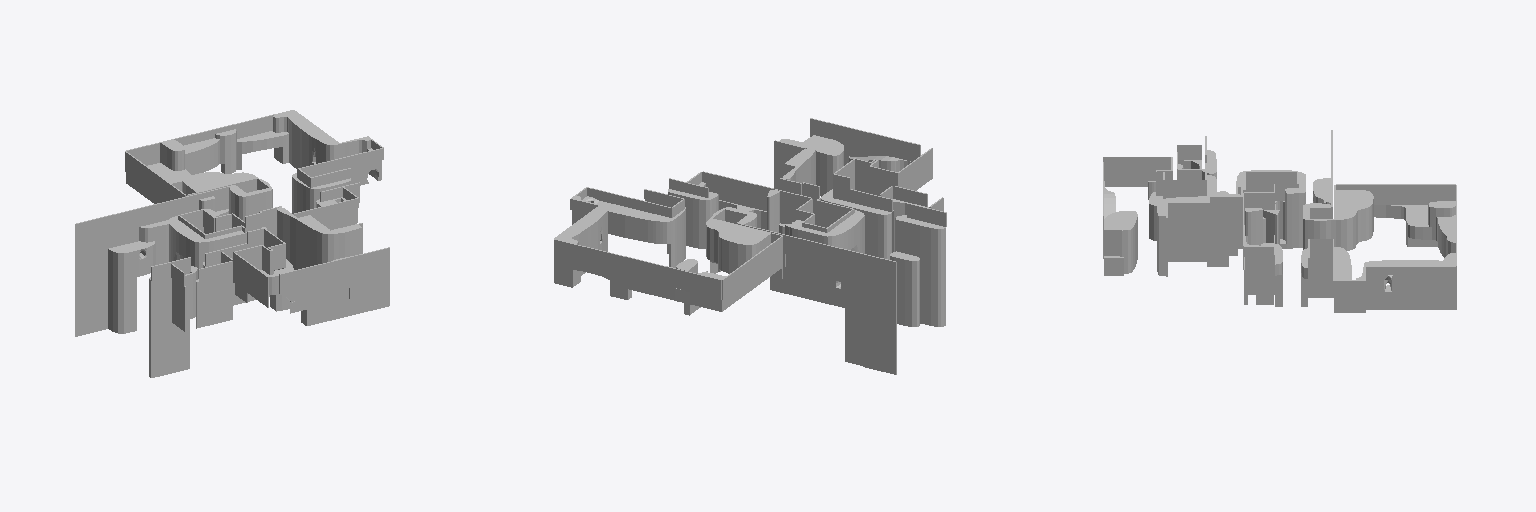
Rendered from keep1walls.obj.
3 views of the same model, side by side, from view 1: azimuth 30°, elevation 25°; view 2: azimuth 150°, elevation 25°; view 3: azimuth 270°, elevation 25° (orthographic).
Parts seen in each view (by area): view 1: entity0_brush3, entity488_brush0, entity0_brush8, entity490_brush23, entity0_brush42, entity0_brush2, entity0_brush45, entity0_brush18, entity0_brush4, entity0_brush36, entity0_brush39, entity0_brush21 (+1 smaller); view 2: entity0_brush3, entity488_brush0, entity0_brush18, entity485_brush12, entity0_brush45, entity0_brush8, entity0_brush2, entity490_brush23, entity0_brush42, entity0_brush4, entity0_brush15, entity0_brush0 (+7 smaller); view 3: entity0_brush14, entity0_brush2, entity0_brush42, entity0_brush6, entity0_brush53, entity0_brush30, entity0_brush27, entity468_brush4, entity470_brush1.
Part boxes in pixels (x1,y1,x2,y2): entity0_brush3: (75,216,108,336); entity488_brush0: (149,277,175,377); entity0_brush8: (290,257,349,301); entity490_brush23: (108,273,136,333); entity0_brush42: (233,252,268,307); entity0_brush2: (125,151,185,200); entity0_brush45: (293,198,357,228); entity0_brush18: (163,114,273,145); entity0_brush4: (140,197,186,226); entity0_brush36: (349,254,364,299); entity0_brush39: (108,211,127,247); entity0_brush21: (186,185,233,212); entity0_brush3: (863,254,896,374); entity488_brush0: (916,221,945,326); entity0_brush18: (573,244,685,286); entity485_brush12: (896,253,919,326); entity0_brush45: (702,171,772,210); entity0_brush8: (850,128,909,160); entity0_brush2: (722,236,782,299); entity490_brush23: (845,306,862,365); entity0_brush42: (897,148,932,190); entity0_brush4: (785,235,831,264); entity0_brush15: (554,239,572,287); entity0_brush0: (686,271,721,299); entity0_brush14: (1168,203,1209,261); entity0_brush2: (1336,184,1455,204); entity0_brush42: (1103,157,1170,186); entity0_brush6: (1210,197,1237,255); entity0_brush53: (1397,266,1455,291); entity0_brush30: (1246,172,1296,191); entity0_brush27: (1163,180,1204,198); entity468_brush4: (1245,208,1262,243); entity470_brush1: (1341,213,1355,249).
Bounding box in the file's own units: 3680 × 1408 × 3648.